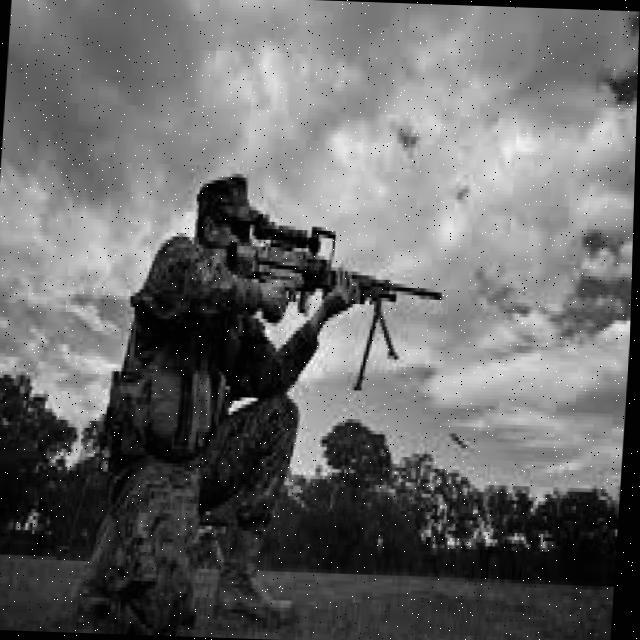firearm: (198, 218, 451, 396)
